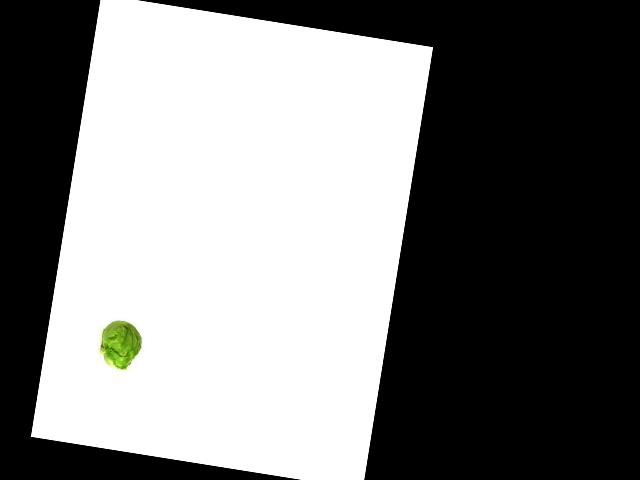lettuce: (96, 313, 149, 377)
